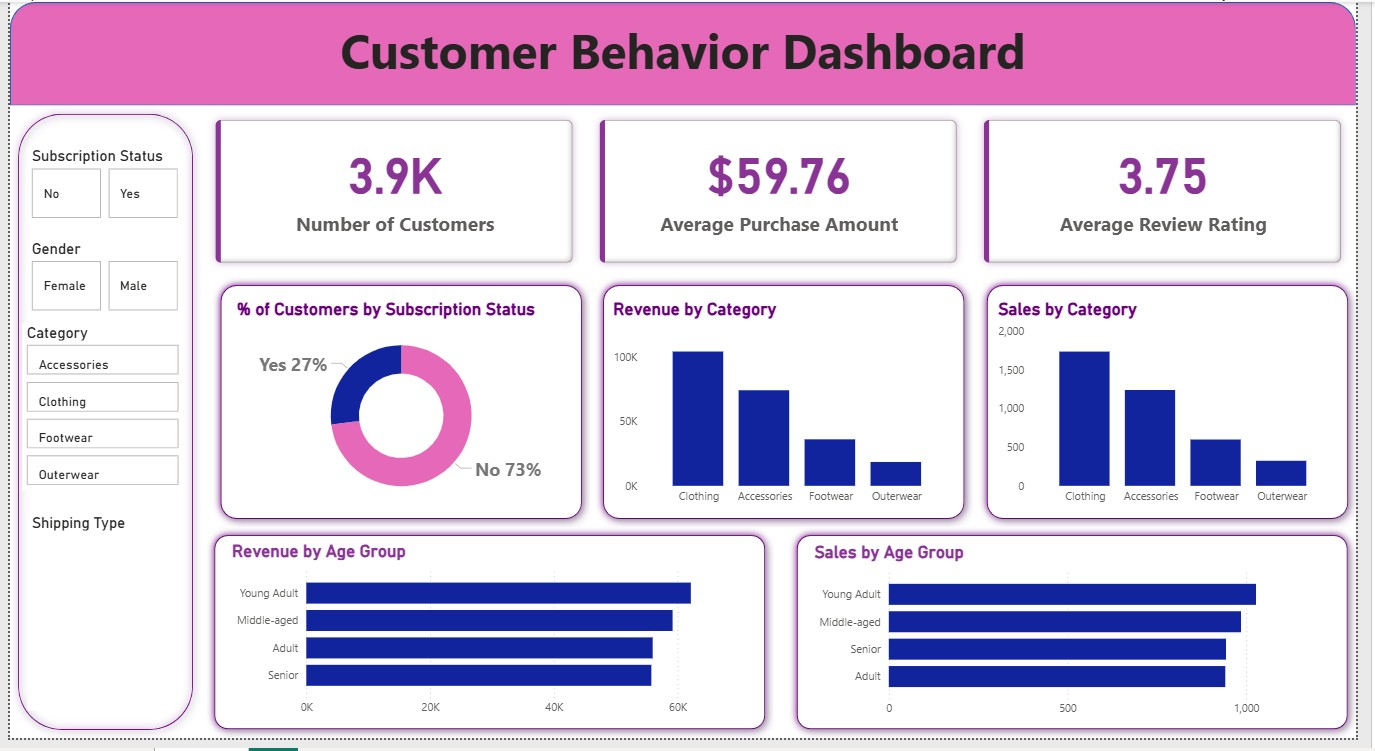

Layout of this report page (visuals, bound fields, positions):
{"tool":"powerbi","page":{"name":"Page 1","canvas":[1500,820],"ordinal":0},"visuals":[{"type":"cardVisual","fields":{"Data":["public customer.Number of Customers","public customer.Average Purchase Amount","public customer.Average Review Rating"]},"box":[212.9,115.3,1286.5,191.6],"z":2000},{"type":"shape","box":[218.3,585.6,631.7,234.2],"z":2500,"group":"g1"},{"type":"shape","box":[0,0,1499.4,115.3],"z":3000},{"type":"textbox","box":[0,12.4,1499.4,102.9],"z":4000},{"type":"shape","box":[225.4,307,420.5,278.6],"z":5000},{"type":"donutChart","title":"% of Customers by Subscription Status","fields":{"Category":["public customer.subscription_status"],"Y":["Sum(public customer.customer_id)"]},"box":[248.4,331.8,376.2,237.8],"z":6000},{"type":"shape","box":[1078.9,307,420.5,278.6],"z":7000},{"type":"shape","box":[652.1,307,420.5,278.6],"z":8000},{"type":"clusteredColumnChart","title":"Revenue by Category","fields":{"Y":["Sum(public customer.purchase_amount)"],"Category":["public customer.category"]},"box":[667.2,331.8,385.1,237.8],"z":9000},{"type":"clusteredColumnChart","title":"Sales by Category","fields":{"Y":["Sum(public customer.customer_id)"],"Category":["public customer.category"]},"box":[1096.6,331.8,385.1,237.8],"z":10000},{"type":"shape","box":[0,115.3,212.9,704.5],"z":11000},{"type":"advancedSlicerVisual","fields":{"Values":["public customer.subscription_status"]},"box":[19.5,161.5,173.9,85.2],"z":12000},{"type":"advancedSlicerVisual","fields":{"Values":["public customer.gender"]},"box":[19.5,264.4,173.9,85.2],"z":13000},{"type":"advancedSlicerVisual","fields":{"Values":["public customer.category"]},"box":[14.2,358.4,179.2,186.3],"z":14000},{"type":"listSlicer","fields":{"Values":["public customer.shipping_type"]},"box":[19.5,569.6,168.6,220],"z":15000},{"type":"shape","box":[867.7,585.6,631.7,234.2],"z":16000},{"type":"clusteredBarChart","title":"Sales by Age Group","fields":{"Y":["Sum(public customer.customer_id)"],"Category":["public customer.age_group"]},"box":[890.8,601.5,585.6,204.1],"z":17000},{"type":"clusteredBarChart","title":"Revenue by Age Group","fields":{"Y":["Sum(public customer.purchase_amount)"],"Category":["public customer.age_group"]},"box":[241.4,601.6,585.6,204.1],"z":17500,"group":"g1"},{"type":"group","id":"g1","title":"Group 1","box":[218.3,585.6,631.7,234.2],"z":17501}]}

Visuals, with their boxes in screenshot pixels (x1, y1, x2, y2), scaled from the page's 1500x820 canvas onto the 1375x751 screenshot:
cardVisual - public customer.Number of Customers x public customer.Average Purchase Amount: 195/106/1374/281
shape: 200/536/779/750
shape: 0/0/1374/106
textbox: 0/11/1374/106
shape: 207/281/592/536
"% of Customers by Subscription Status" donutChart: 228/304/573/522
shape: 989/281/1374/536
shape: 598/281/983/536
"Revenue by Category" clusteredColumnChart: 612/304/965/522
"Sales by Category" clusteredColumnChart: 1005/304/1358/522
shape: 0/106/195/750
advancedSlicerVisual - public customer.subscription_status: 18/148/177/226
advancedSlicerVisual - public customer.gender: 18/242/177/320
advancedSlicerVisual - public customer.category: 13/328/177/499
listSlicer - public customer.shipping_type: 18/522/172/723
shape: 795/536/1374/750
"Sales by Age Group" clusteredBarChart: 817/551/1353/738
"Revenue by Age Group" clusteredBarChart: 221/551/758/738
"Group 1" group: 200/536/779/750
